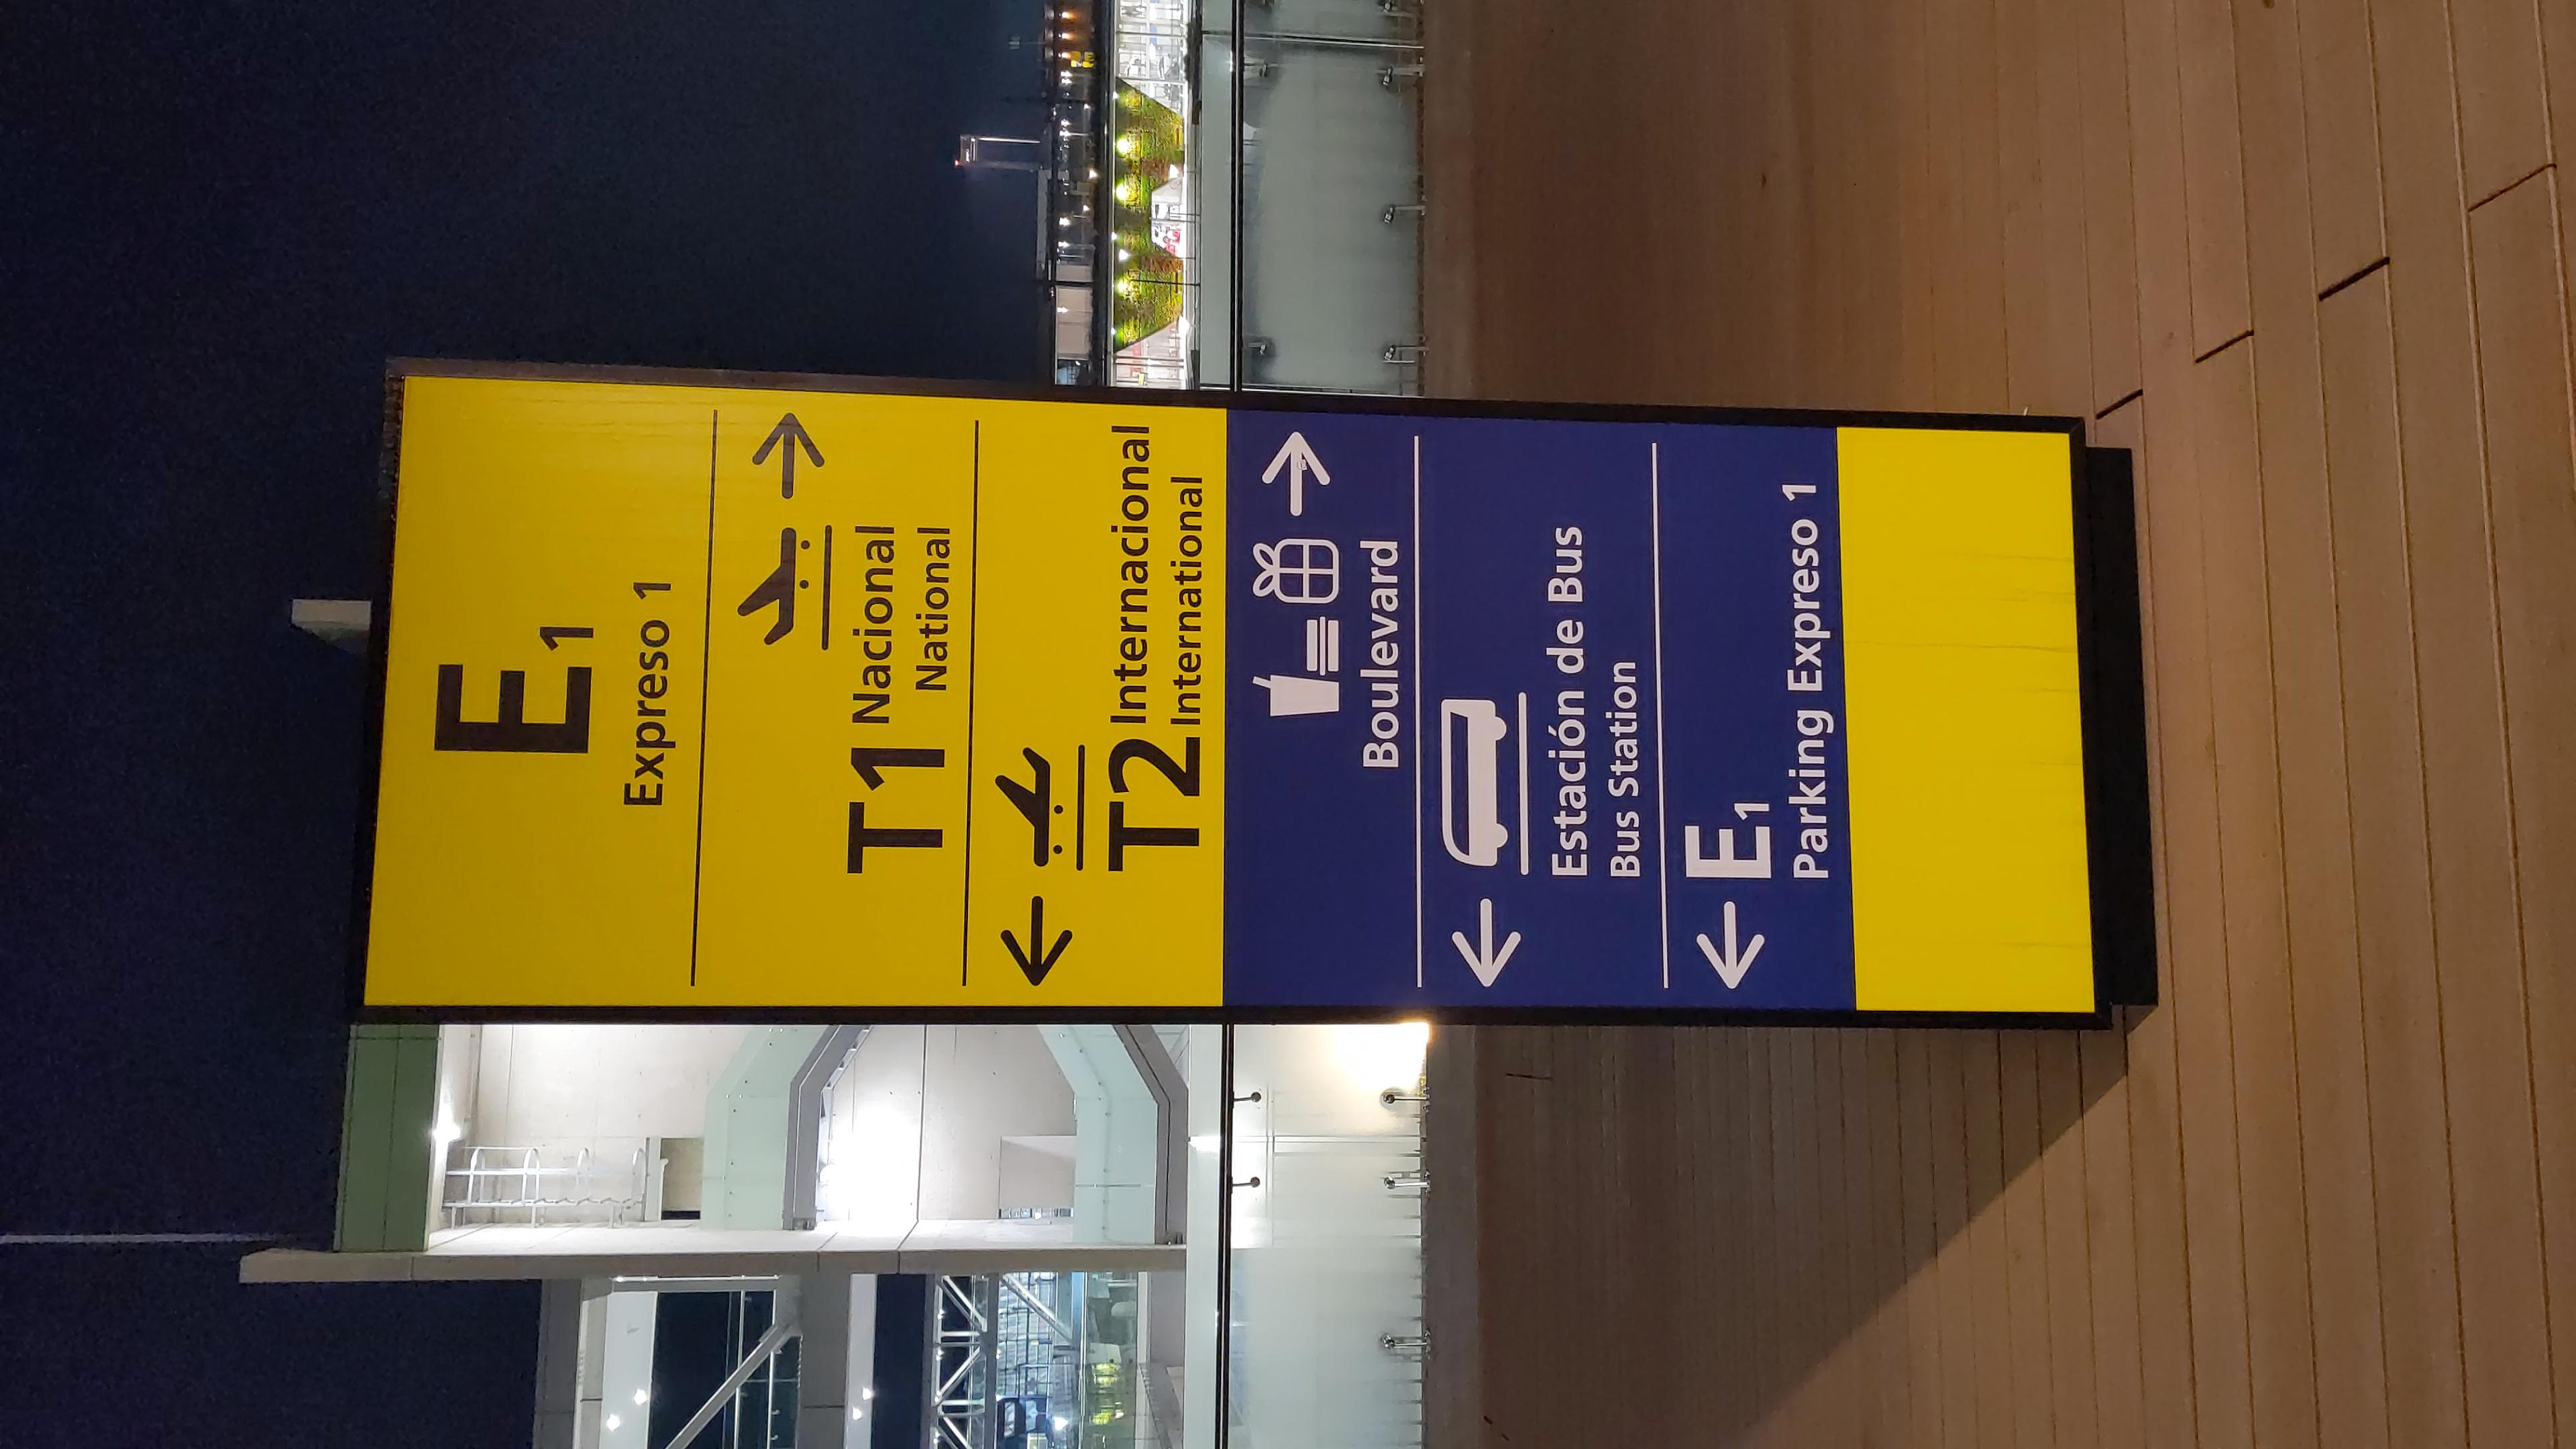airplane symbol: (1024, 557, 1260, 602), (1419, 412, 1642, 458)
thin left arrow: (816, 561, 996, 607), (819, 816, 993, 862), (805, 952, 982, 996)
thin right arrow: (1681, 419, 1852, 465), (1651, 708, 1815, 752)
